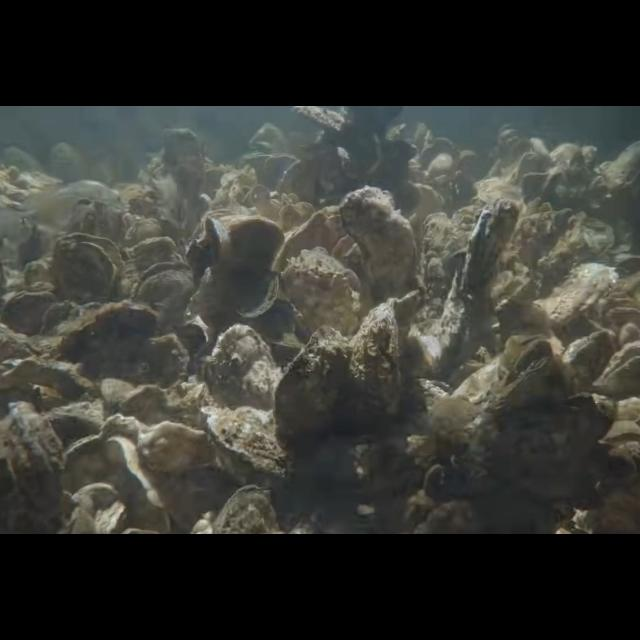Oyster-Closed: (441, 198, 519, 352), (274, 323, 354, 453), (0, 401, 68, 534), (338, 186, 416, 300), (48, 304, 158, 376), (205, 404, 298, 486), (280, 246, 362, 338), (344, 300, 404, 422), (220, 214, 282, 324), (210, 324, 282, 411), (534, 260, 618, 324), (422, 212, 464, 324), (214, 486, 282, 534), (560, 328, 614, 384), (136, 334, 190, 388), (0, 289, 60, 333)
Oyster-Open: (451, 336, 559, 422), (52, 232, 126, 306), (130, 260, 196, 334), (190, 214, 230, 282), (594, 342, 640, 391)
